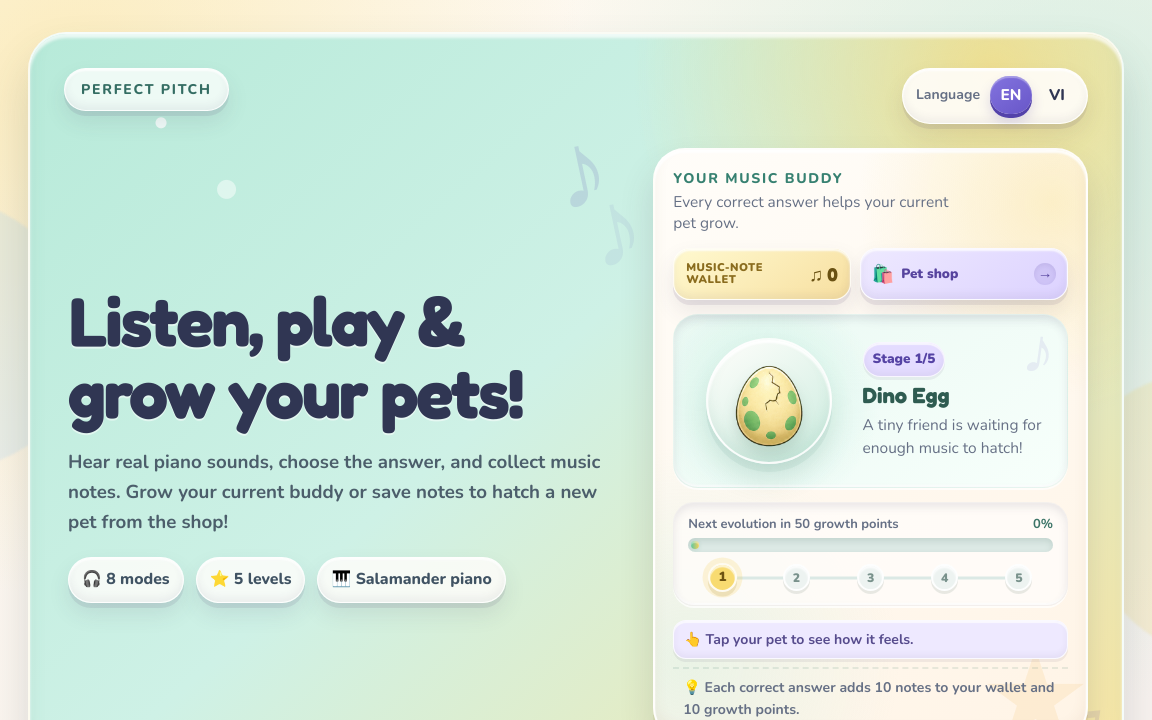
PerfectPitchApp › shows a stage-specific expression when the dinosaur is tapped
Click the button named "Tap the pet for a reaction" at (769, 401), box [699, 331, 839, 471]
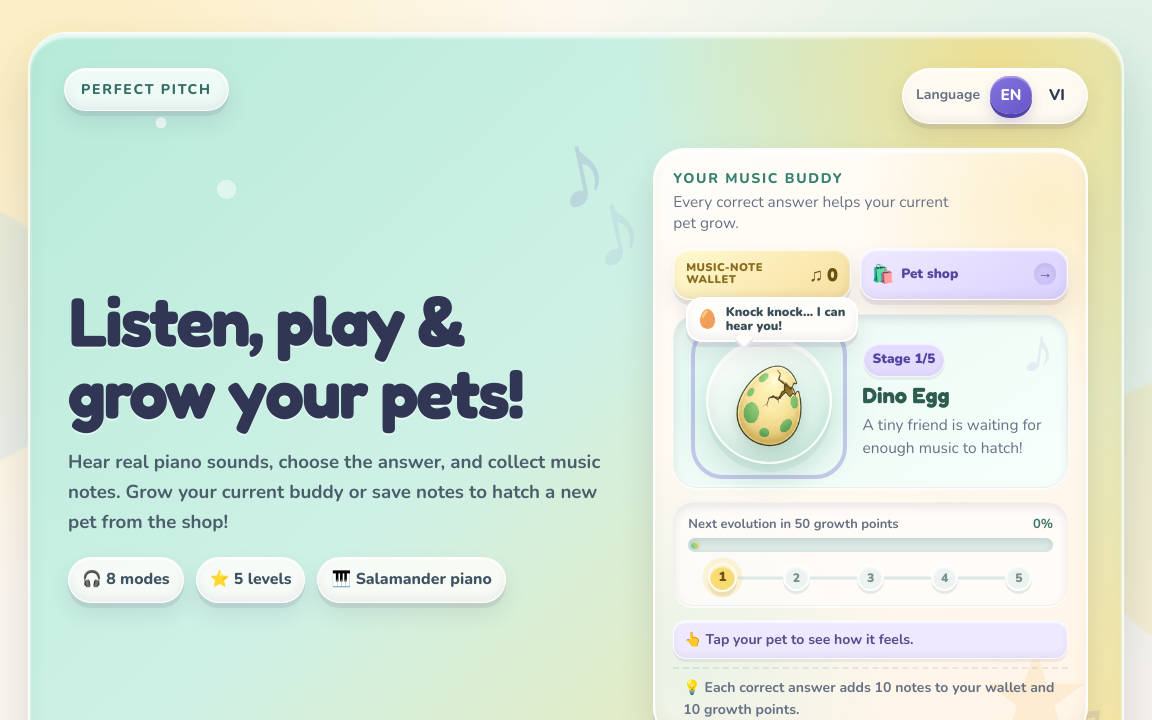
Expected: the message shows "Knock knock... I can hear you!", [726, 303, 845, 334]
